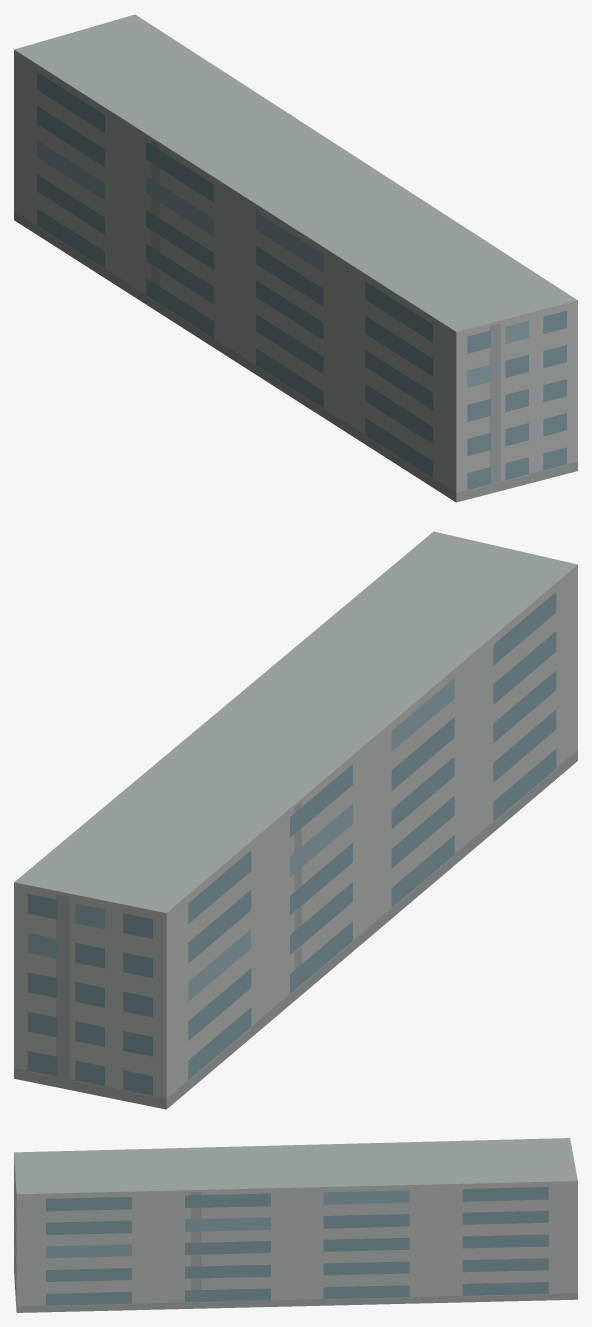
The model's file is residential-7a9fbda3-3fe0-49e5-98ca-1a4db914ad55.glb.
3 renders of one model, top to bottom at view 1: azimuth 30°, elevation 25°; view 2: azimuth 150°, elevation 25°; view 3: azimuth 270°, elevation 25°, orthographic. The views are drawn at different scales.
Visible parts, largest first — view 1: residential-7a9fbda3-3fe0-49e5-98ca-1a4db914ad55.tmp; view 2: residential-7a9fbda3-3fe0-49e5-98ca-1a4db914ad55.tmp; view 3: residential-7a9fbda3-3fe0-49e5-98ca-1a4db914ad55.tmp.
Boxes of the visible parts, x1,y1,x2,y2 form: residential-7a9fbda3-3fe0-49e5-98ca-1a4db914ad55.tmp: (14, 14, 577, 502); residential-7a9fbda3-3fe0-49e5-98ca-1a4db914ad55.tmp: (14, 531, 577, 1109); residential-7a9fbda3-3fe0-49e5-98ca-1a4db914ad55.tmp: (14, 1138, 577, 1312).
Bounding box in the file's own units: 15.52 × 15.25 × 65.69.
